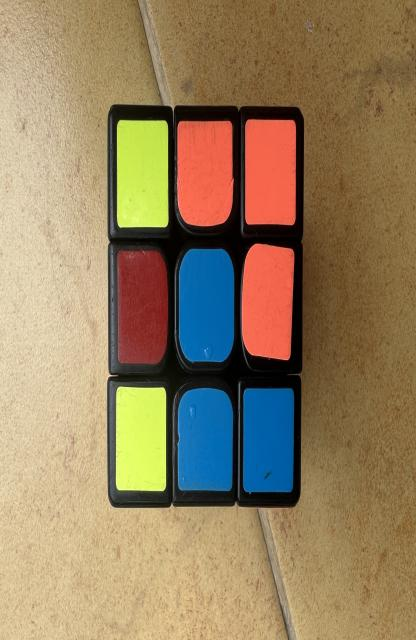Blue: (179, 248, 235, 362), (178, 388, 233, 492), (243, 388, 294, 492)
Orange: (241, 243, 294, 360), (176, 120, 233, 227), (245, 118, 296, 225)
Red: (117, 250, 168, 363)
Yellow: (117, 120, 169, 228), (116, 387, 167, 492)
